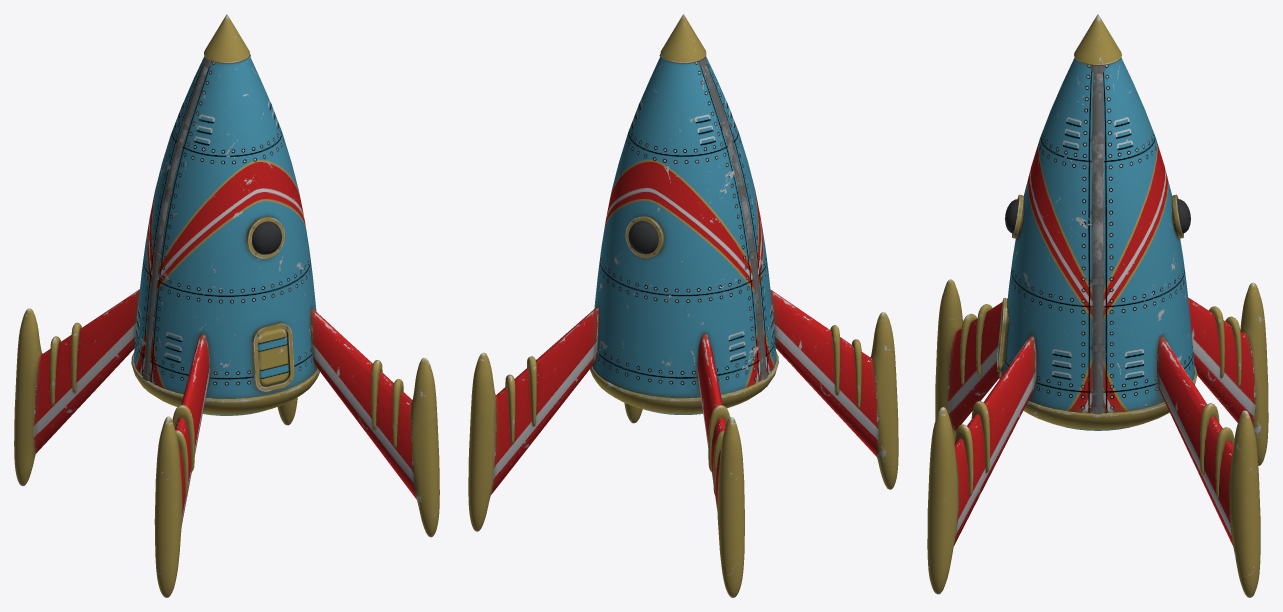
Rendered from avatar.glb.
3 renders of one model, left to right at view 1: azimuth 30°, elevation 25°; view 2: azimuth 150°, elevation 25°; view 3: azimuth 270°, elevation 25°, orthographic. The views are drawn at different scales.
Visible parts, largest first — view 1: toy_rocket_realistic_lod0; view 2: toy_rocket_realistic_lod0; view 3: toy_rocket_realistic_lod0.
Boxes of the visible parts, x1,y1,x2,y2 form: toy_rocket_realistic_lod0: (14,14,439,597); toy_rocket_realistic_lod0: (468,14,898,597); toy_rocket_realistic_lod0: (927,14,1268,597).
Bounding box in the file's own units: 0.1564 × 0.2609 × 0.1564.
1 material, 1 textured.
